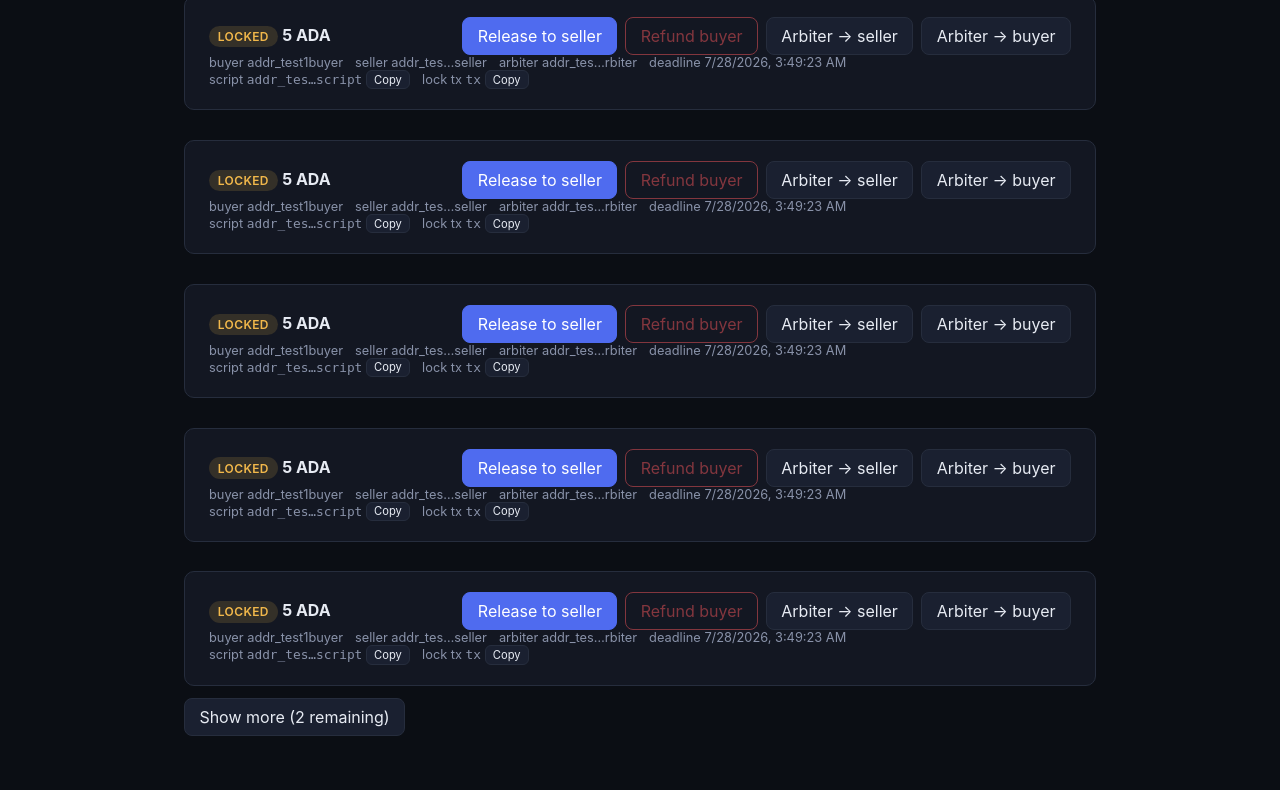
Scenario: EscrowList › paginates with a Show more button past the first page
This screenshot has width=1280, height=790.
(page scrolled)
Click the button "Show more (2 remaining)" at (295, 717), box [184,698,405,736]
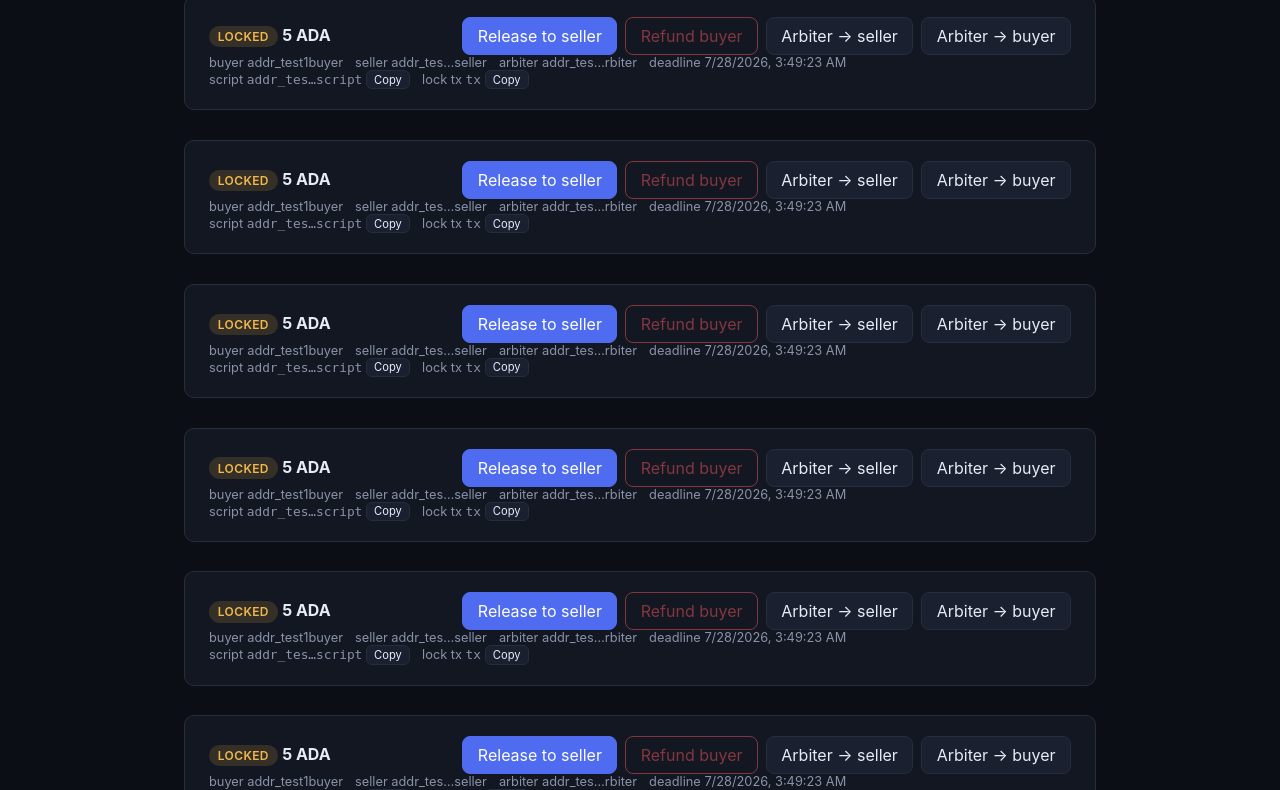
Result: the button "Show more" is gone
